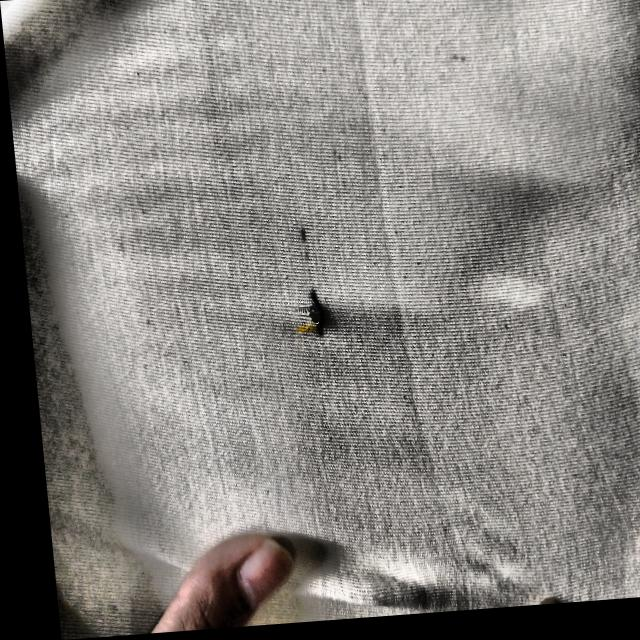Hole: (300, 308, 313, 328), (294, 232, 304, 248)
Stitch: (310, 306, 319, 338), (305, 294, 313, 308)
